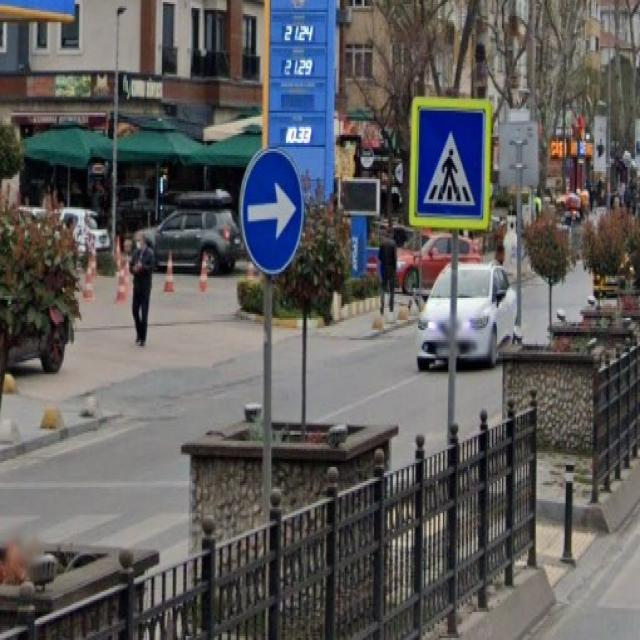Turn Right: (240, 150, 302, 271)
